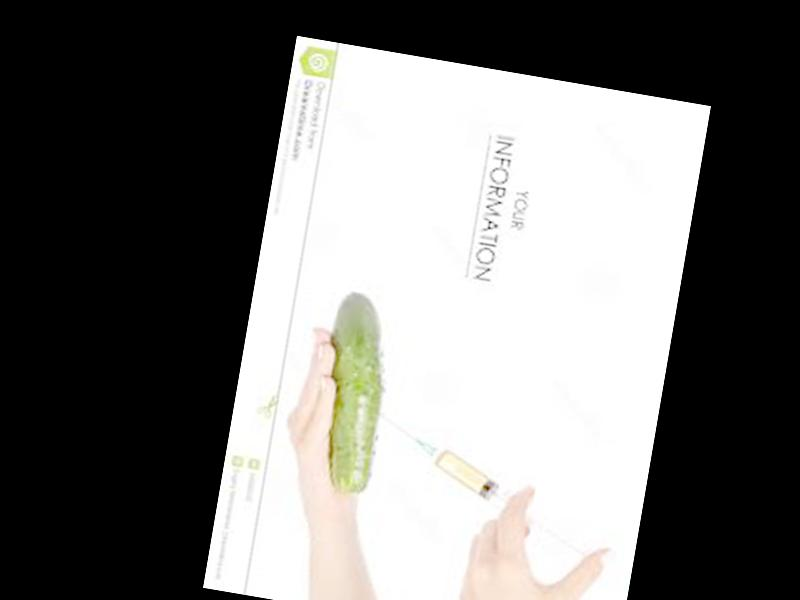Cucumber: (307, 289, 399, 496)
